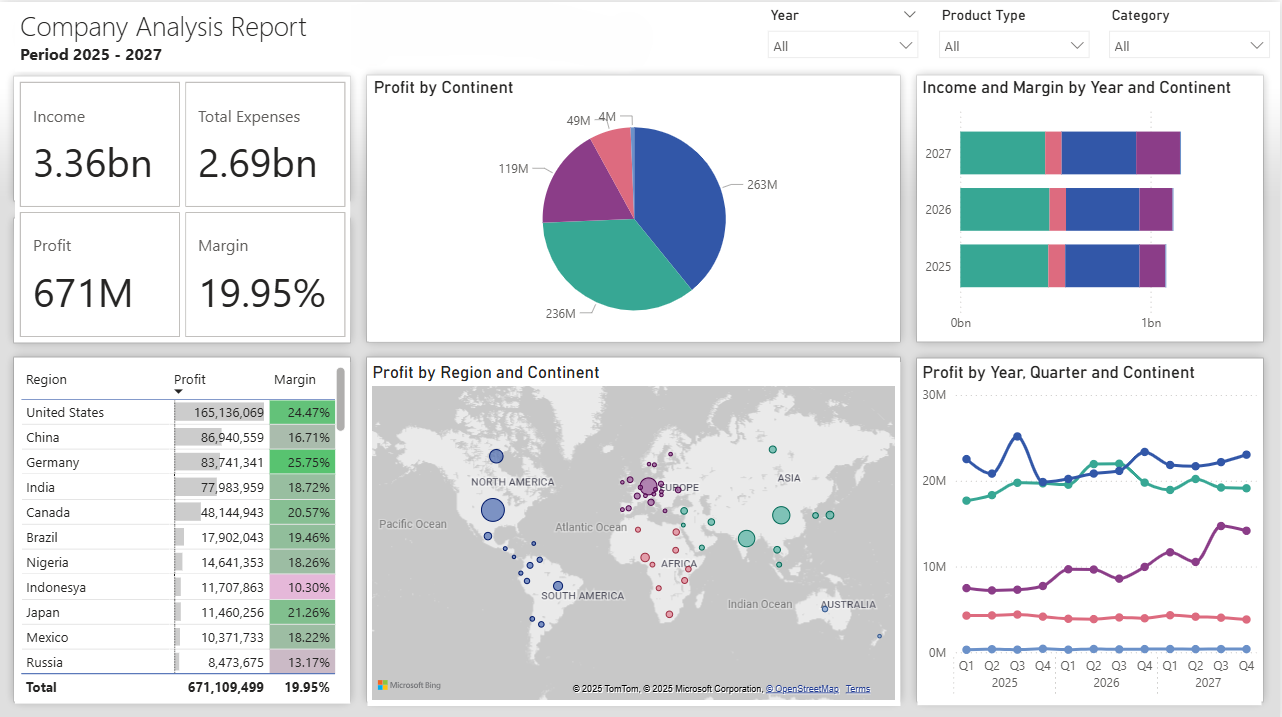

The page's visual inventory and layout, read from the dashboard file:
{"tool":"powerbi","page":{"name":"Page 1","canvas":[1280,720],"ordinal":0},"visuals":[{"type":"tableEx","fields":{"Values":["Data.Country","Metrics.Profit","Metrics.Margin"]},"box":[0,242.5,361.2,468.8],"z":0},{"type":"cardVisual","fields":{"Data":["Metrics.Total Income","Metrics.Total Expenses","Metrics.Profit","Metrics.Margin"]},"box":[0,31.2,403.8,212.5],"z":1000},{"type":"barChart","fields":{"Category":["Data.Year"],"Y":["Metrics.Total Income"],"Series":["Data.Continent"]},"box":[842.5,62.5,437.5,180],"z":2000},{"type":"pieChart","fields":{"Y":["Metrics.Profit"],"Category":["Data.Continent"]},"box":[403.8,62.5,438.8,180],"z":3000},{"type":"map","fields":{"Category":["Data.Country"],"Size":["Metrics.Profit"],"Series":["Data.Continent"]},"box":[361.2,243.8,481.2,466.2],"z":4000},{"type":"lineChart","fields":{"Category":["Data.Year","Data.Quarter"],"Y":["Metrics.Profit"],"Series":["Data.Continent"]},"box":[842.5,243.8,437.5,466.2],"z":5000},{"type":"slicer","fields":{"Values":["Data.Year"]},"box":[756.9,0,171.2,62.4],"z":6000},{"type":"slicer","fields":{"Values":["Data.Product Type"]},"box":[928.1,0,171.2,62.4],"z":7000},{"type":"slicer","fields":{"Values":["Products.Product Category"]},"box":[1099.3,0,181,62.4],"z":8000}]}

Visuals, with their boxes in screenshot pixels (x1, y1, x2, y2), scaled from the page's 1280x720 canvas onto the 1282x717 screenshot:
tableEx - Data.Country x Metrics.Profit: {"left": 0, "top": 241, "right": 362, "bottom": 708}
cardVisual - Metrics.Total Income x Metrics.Total Expenses: {"left": 0, "top": 31, "right": 404, "bottom": 243}
barChart - Data.Year x Metrics.Total Income: {"left": 844, "top": 62, "right": 1281, "bottom": 241}
pieChart - Metrics.Profit x Data.Continent: {"left": 404, "top": 62, "right": 844, "bottom": 241}
map - Data.Country x Metrics.Profit: {"left": 362, "top": 243, "right": 844, "bottom": 707}
lineChart - Data.Year x Data.Quarter: {"left": 844, "top": 243, "right": 1281, "bottom": 707}
slicer - Data.Year: {"left": 758, "top": 0, "right": 930, "bottom": 62}
slicer - Data.Product Type: {"left": 930, "top": 0, "right": 1101, "bottom": 62}
slicer - Products.Product Category: {"left": 1101, "top": 0, "right": 1281, "bottom": 62}
